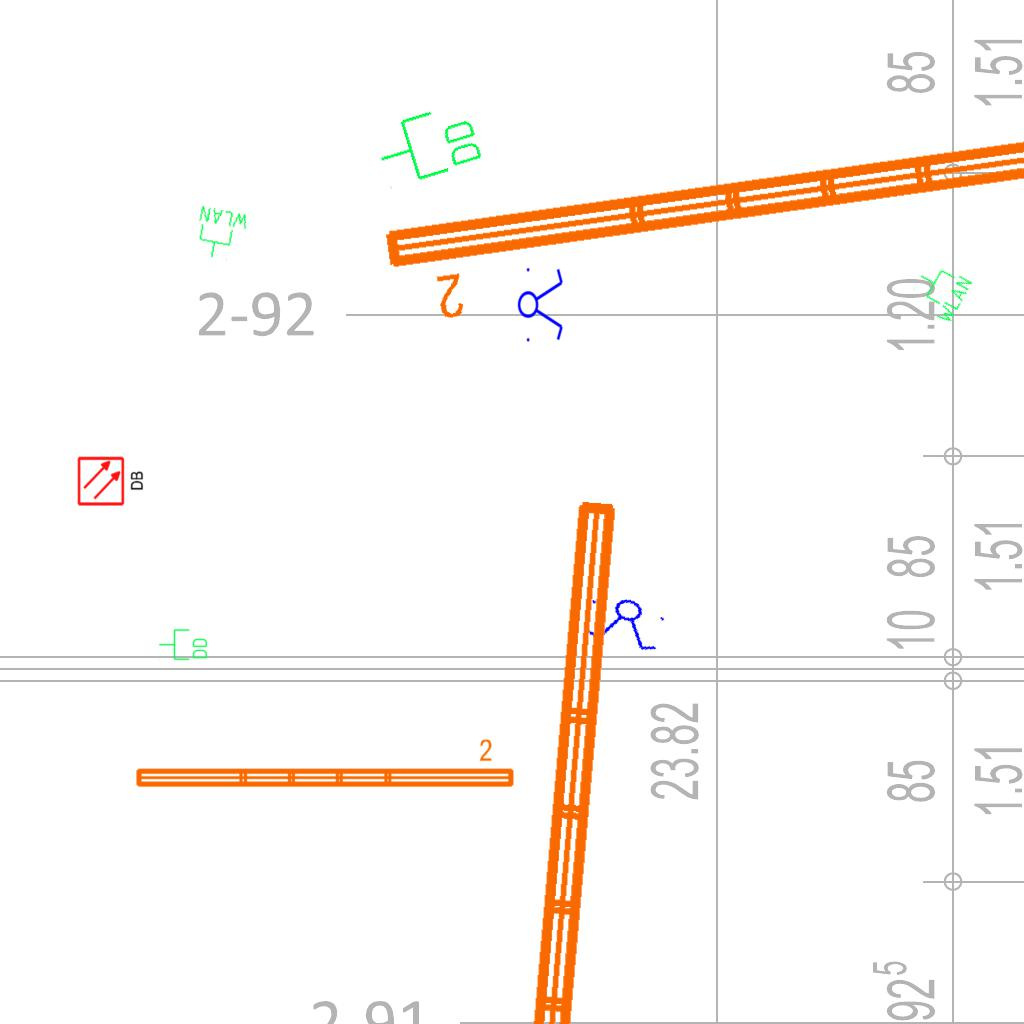Ambulanz_Pendelleuchte_LED: (374, 112, 1024, 332), (500, 489, 680, 1024), (131, 737, 518, 793)
DB_Melder_in_Doppelboden_mit_Revisionsoeffnung_mind_40_x_40_cm: (74, 452, 148, 509)
Datenanschluss_zweifach: (369, 97, 488, 194), (158, 628, 209, 662)
Serienschalter: (579, 589, 673, 657), (517, 262, 565, 346)
WLAN: (904, 256, 976, 328), (190, 203, 252, 265)
